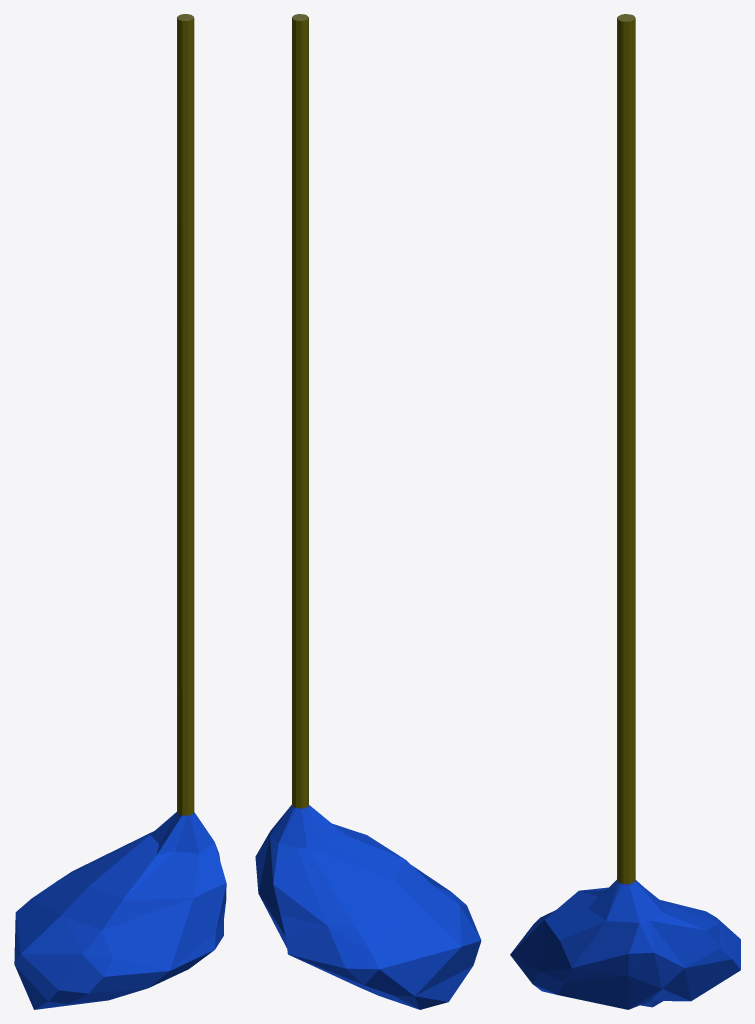
File: mop.fbx
3 views of the same model, side by side, from view 1: azimuth 30°, elevation 25°; view 2: azimuth 150°, elevation 25°; view 3: azimuth 270°, elevation 25° (orthographic). The views are drawn at different scales.
Visible parts, largest first — view 1: mop; view 2: mop; view 3: mop.
Part boxes in pixels (<box>): mop: <box>14,14,226,1009</box>; mop: <box>255,14,481,1009</box>; mop: <box>510,14,740,1009</box>.
Size of the model in its own units: 35.43 by 163 by 32.89.
